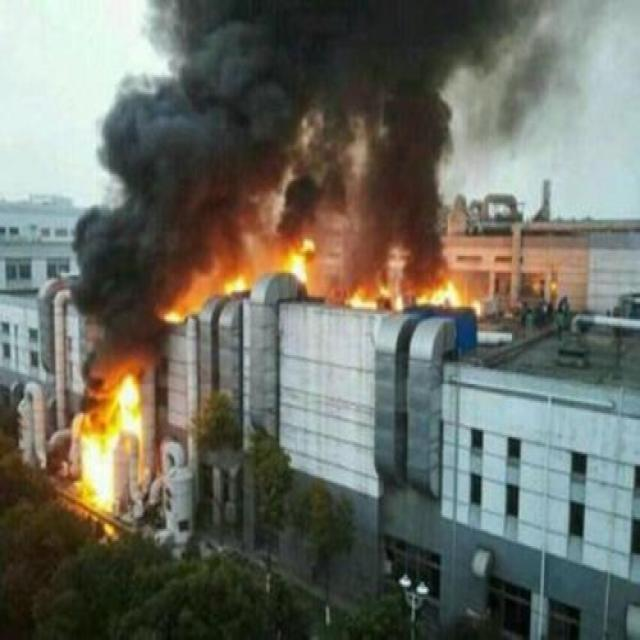Fire: (74, 370, 144, 536), (344, 270, 389, 310), (416, 276, 464, 309), (284, 239, 316, 285), (222, 274, 245, 296), (161, 308, 186, 324)
Smoke: (70, 1, 640, 233), (69, 236, 160, 370), (319, 234, 455, 274), (160, 233, 227, 304), (228, 236, 284, 276)
